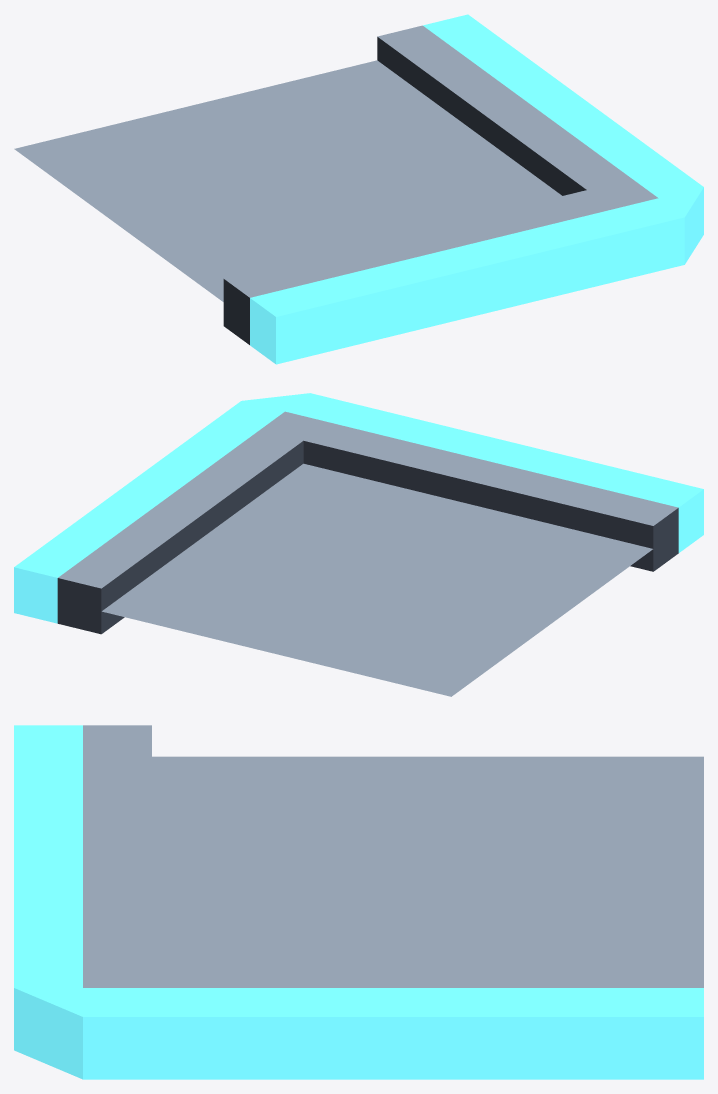
File: platform_cornerOpen.glb
The picture shows the model from 3 angles, top to bottom: view 1: azimuth 30°, elevation 25°; view 2: azimuth 150°, elevation 25°; view 3: azimuth 270°, elevation 25°; orthographic projection. The views are drawn at different scales.
Parts seen in each view (by area): view 1: platform_cornerOpen; view 2: platform_cornerOpen; view 3: platform_cornerOpen.
Part boxes in pixels (x1=…): platform_cornerOpen: x1=14, y1=14, x2=703, y2=364; platform_cornerOpen: x1=14, y1=393, x2=703, y2=696; platform_cornerOpen: x1=14, y1=725, x2=703, y2=1079.
Bounding box in the file's own units: 1 × 0.1 × 1.
